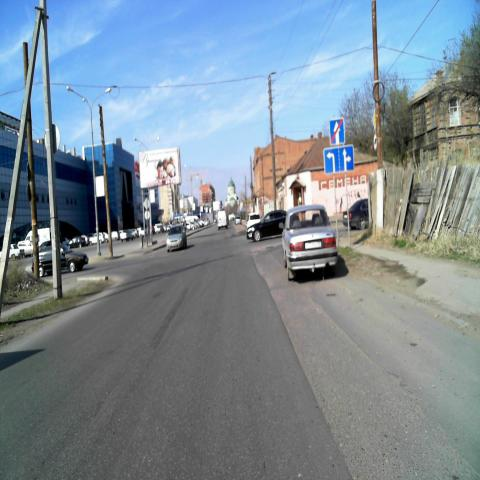3_4_1: (373, 132, 378, 150)
5_6: (330, 118, 345, 146)
